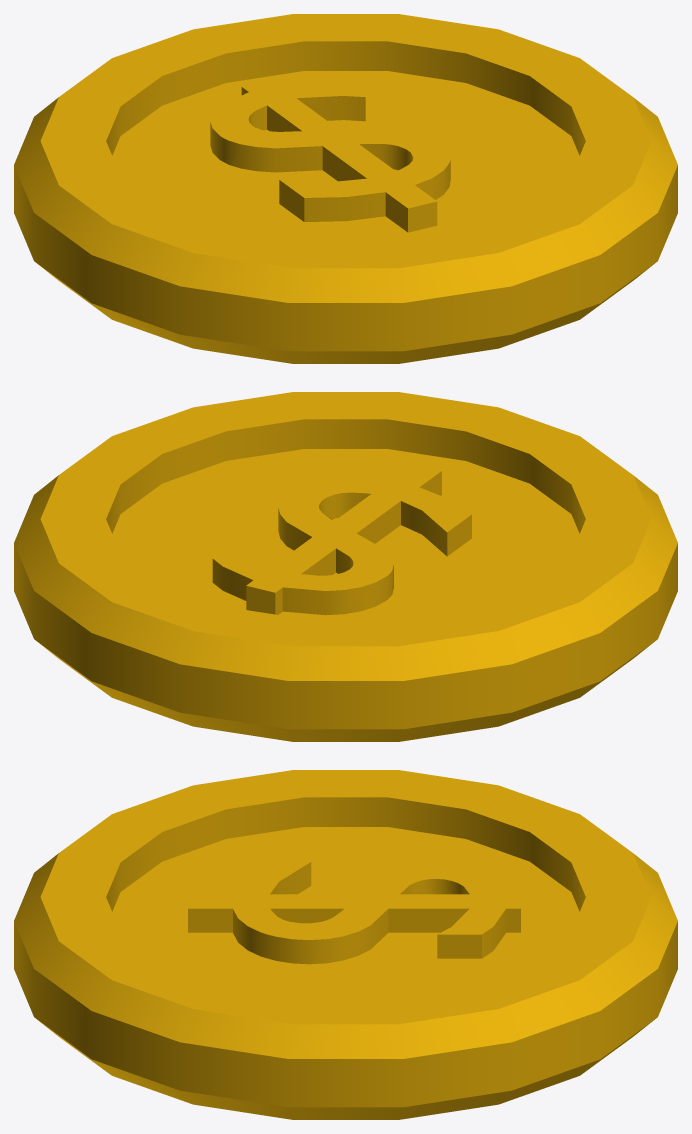
File: coin_new.glb
3 views of the same model, one above another, from view 1: azimuth 30°, elevation 25°; view 2: azimuth 150°, elevation 25°; view 3: azimuth 270°, elevation 25° (orthographic).
Parts seen in each view (by area): view 1: Coin_New; view 2: Coin_New; view 3: Coin_New.
Part boxes in pixels (<box>): Coin_New: <box>14,14,677,363</box>; Coin_New: <box>14,392,677,741</box>; Coin_New: <box>14,770,677,1119</box>.
Bounding box in the file's own units: 1.97 × 0.3178 × 2.
